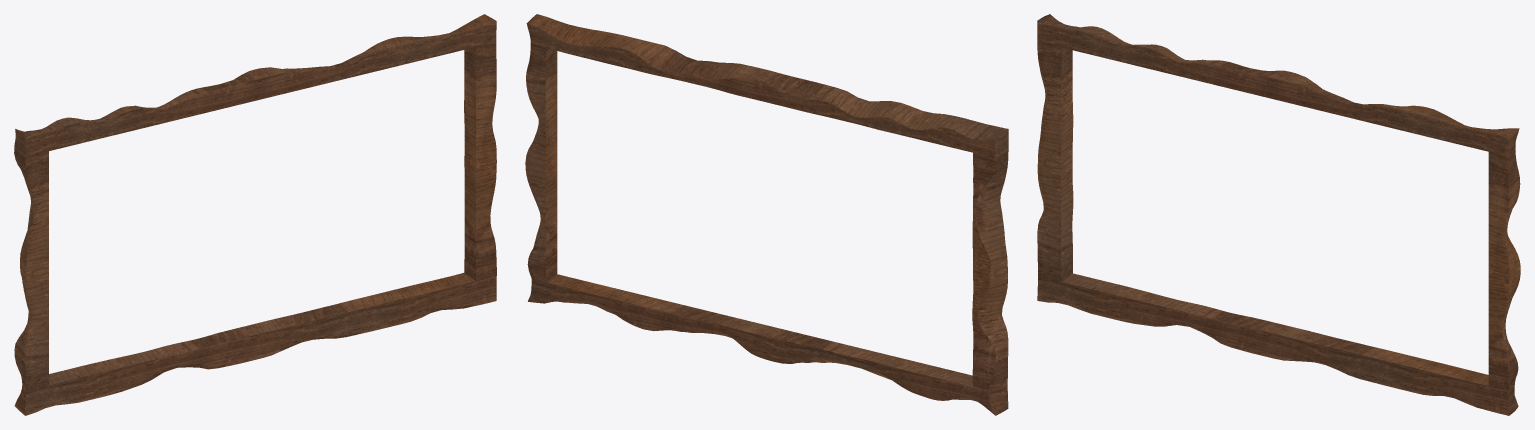
File: frame3.glb
3 views of the same model, side by side, from view 1: azimuth 30°, elevation 25°; view 2: azimuth 150°, elevation 25°; view 3: azimuth 330°, elevation 25° (orthographic).
Parts seen in each view (by area): view 1: Frame3; view 2: Frame3; view 3: Frame3.
Boxes of the visible parts, x1,y1,x2,y2 form: Frame3: (14, 14, 496, 415); Frame3: (525, 14, 1008, 415); Frame3: (1037, 14, 1520, 415).
Size of the model in its own units: 2.96 by 1.68 by 0.1373.
1 material, 1 textured.
